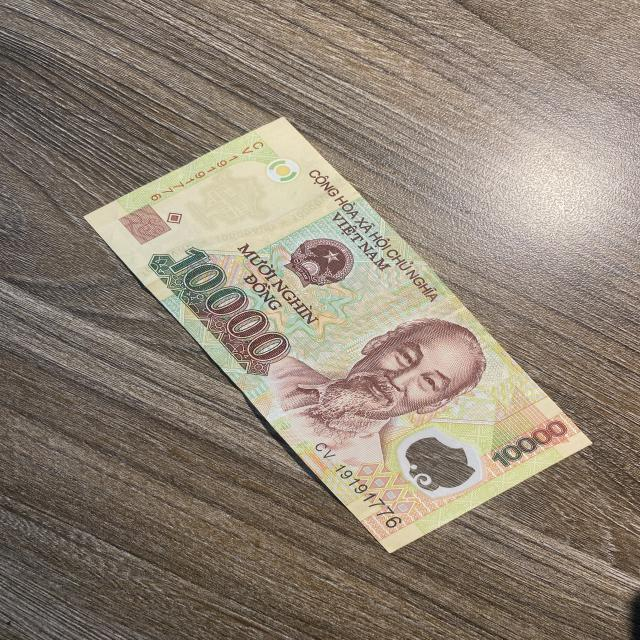10 000 VND: (82, 115, 594, 556)
